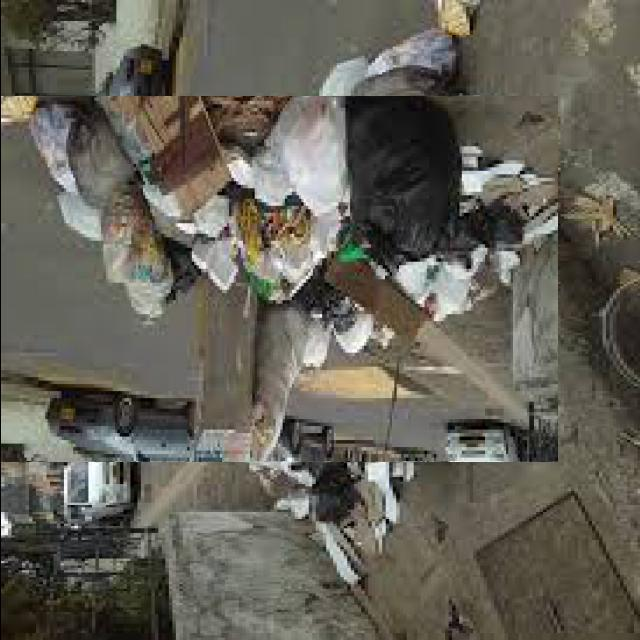Trashbag: (324, 79, 533, 290)
